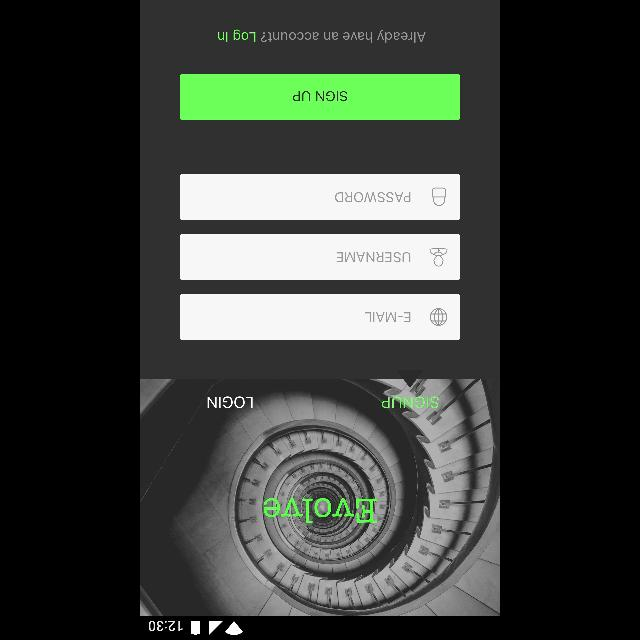icon: (429, 248, 447, 266), (429, 308, 446, 326), (432, 188, 446, 206)
image: (140, 379, 500, 615)
input: (180, 294, 460, 340), (180, 234, 460, 280), (180, 174, 460, 220)
text: (263, 497, 377, 523), (218, 29, 426, 43), (334, 192, 410, 202), (336, 252, 410, 262), (382, 396, 438, 408), (208, 396, 252, 408), (365, 312, 411, 322)
textbutton: (180, 74, 460, 120)
uppertaskbar: (140, 616, 500, 640)
